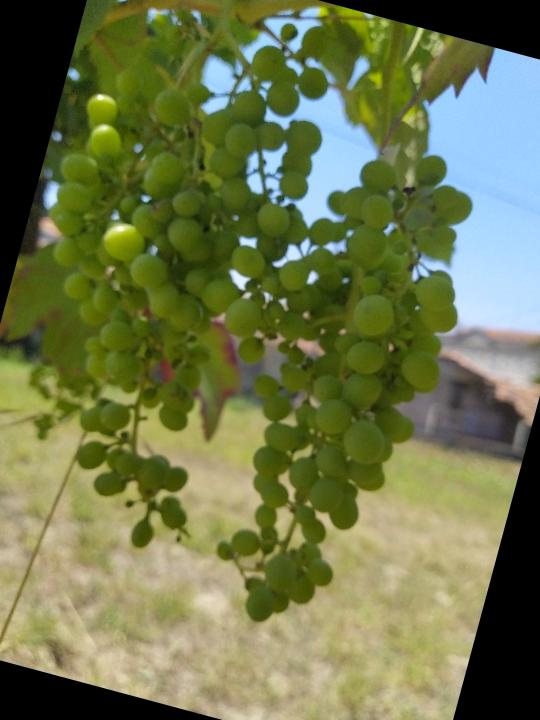grape: (0, 0, 360, 576), (189, 120, 500, 654)
